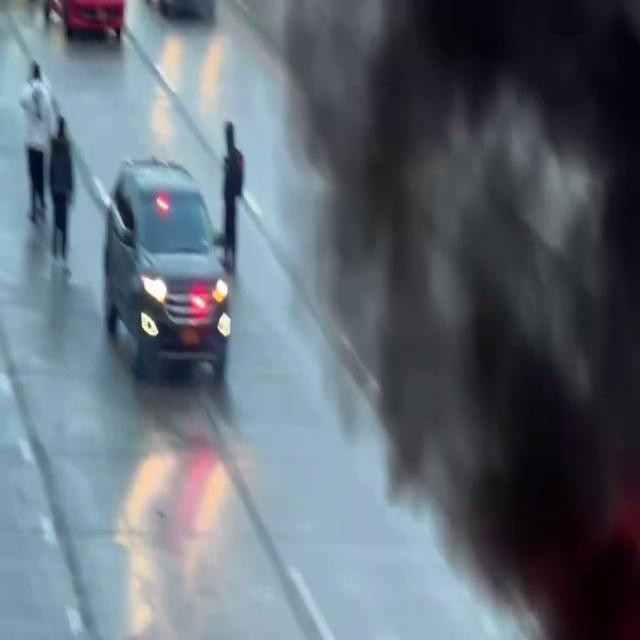Smoke: (268, 0, 640, 621)
